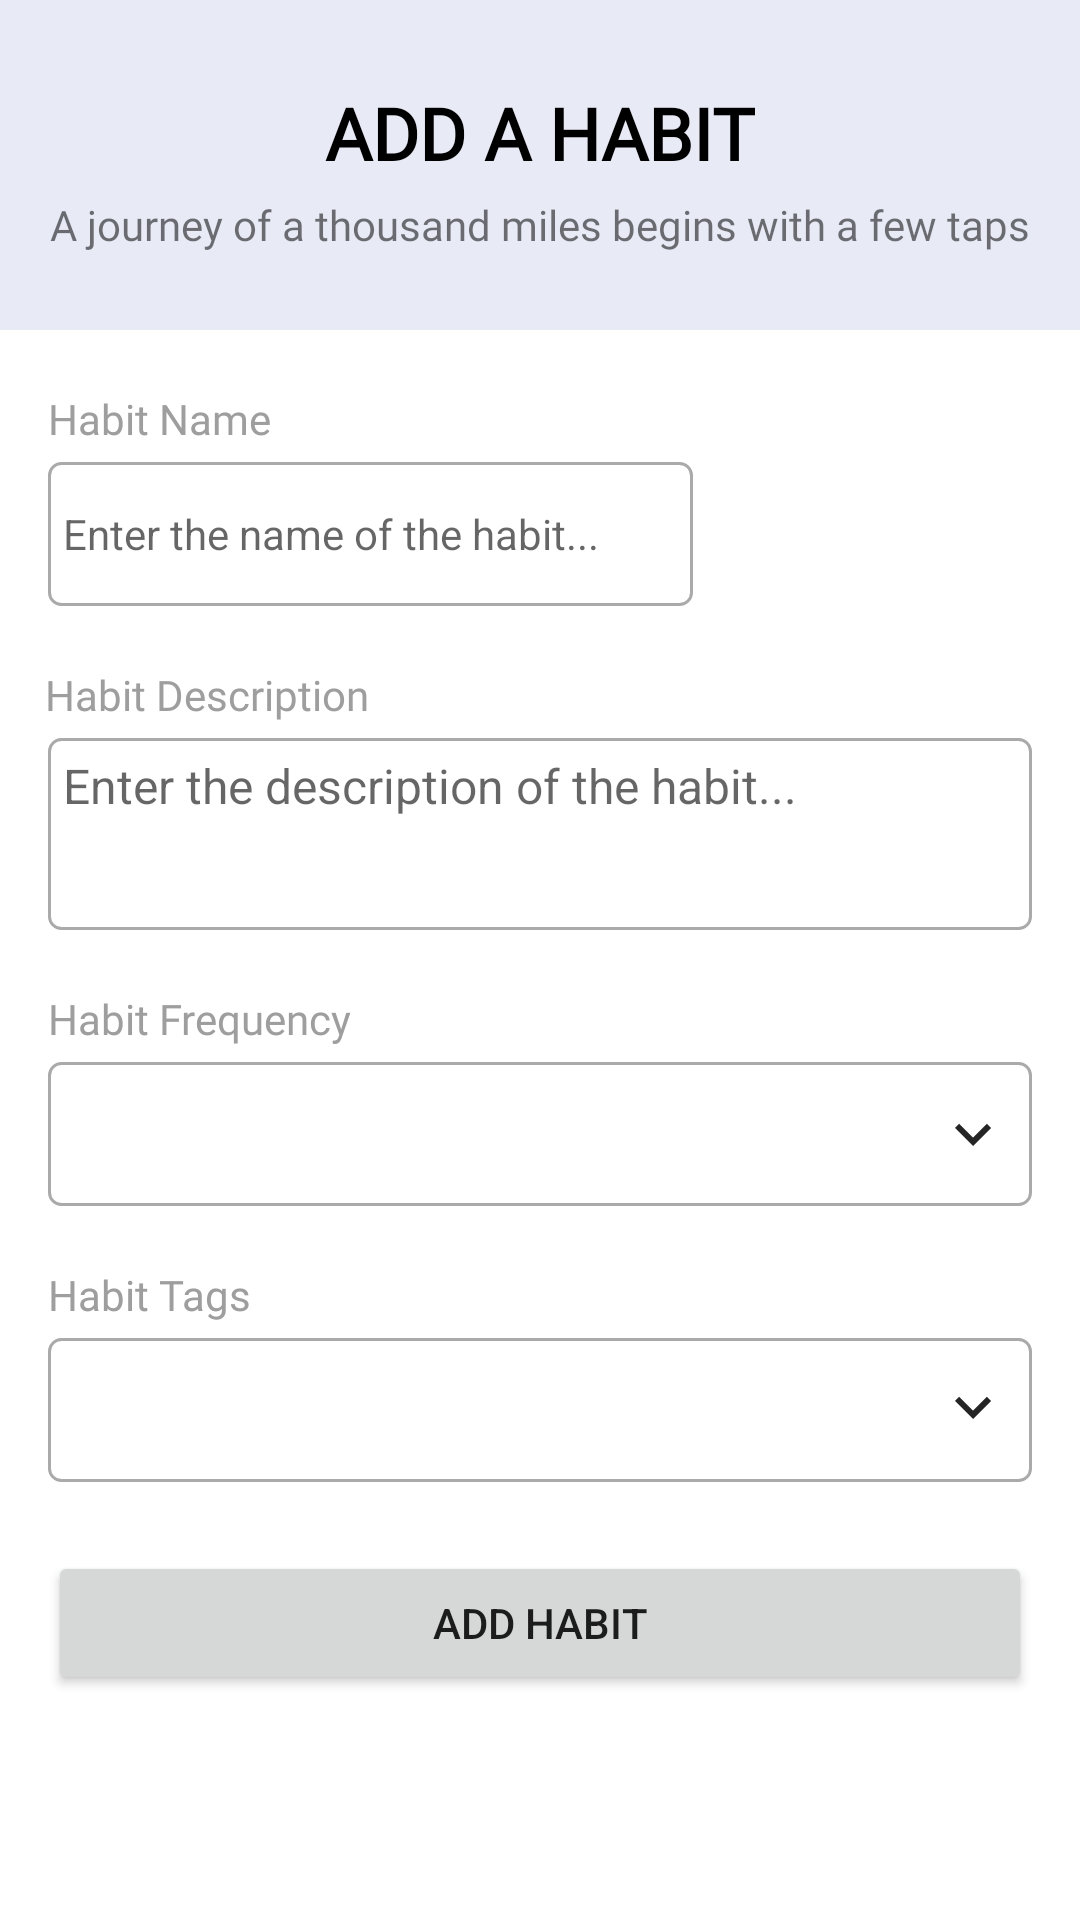

Named icons in this screenshot (1080 × 1920) and their centers, point (x, y):
keyboard arrow down: point (973, 1135), point (973, 1408)
